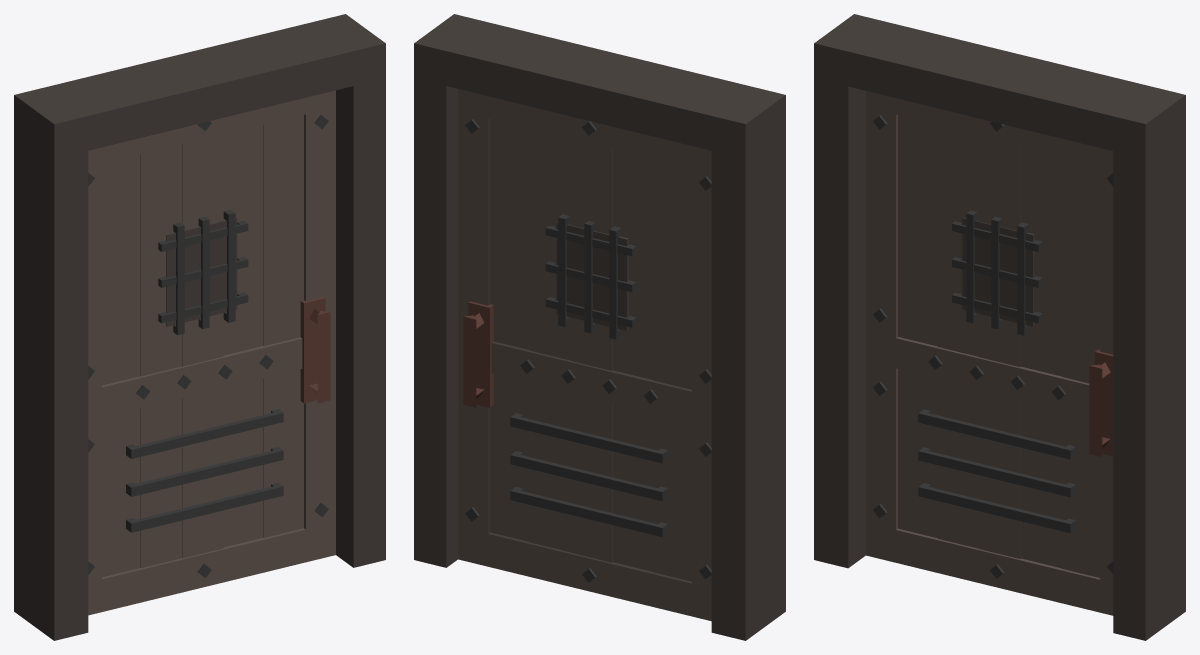
File: GunClosetDoor.glb
The picture shows the model from 3 angles, left to right: view 1: azimuth 30°, elevation 25°; view 2: azimuth 150°, elevation 25°; view 3: azimuth 330°, elevation 25°; orthographic projection.
Parts seen in each view (by area): view 1: DoorBoard, Cube; view 2: DoorBoard, Cube; view 3: DoorBoard, Cube.
Boxes of the visible parts, <box> form: DoorBoard: <box>88,90,335,615</box>; Cube: <box>14,14,385,640</box>; DoorBoard: <box>458,89,711,621</box>; Cube: <box>414,14,785,640</box>; DoorBoard: <box>866,91,1113,615</box>; Cube: <box>814,14,1185,640</box>.
Size of the model in its own units: 1.57 by 2.33 by 0.33.
Materials: 1 (1 with a texture image).
